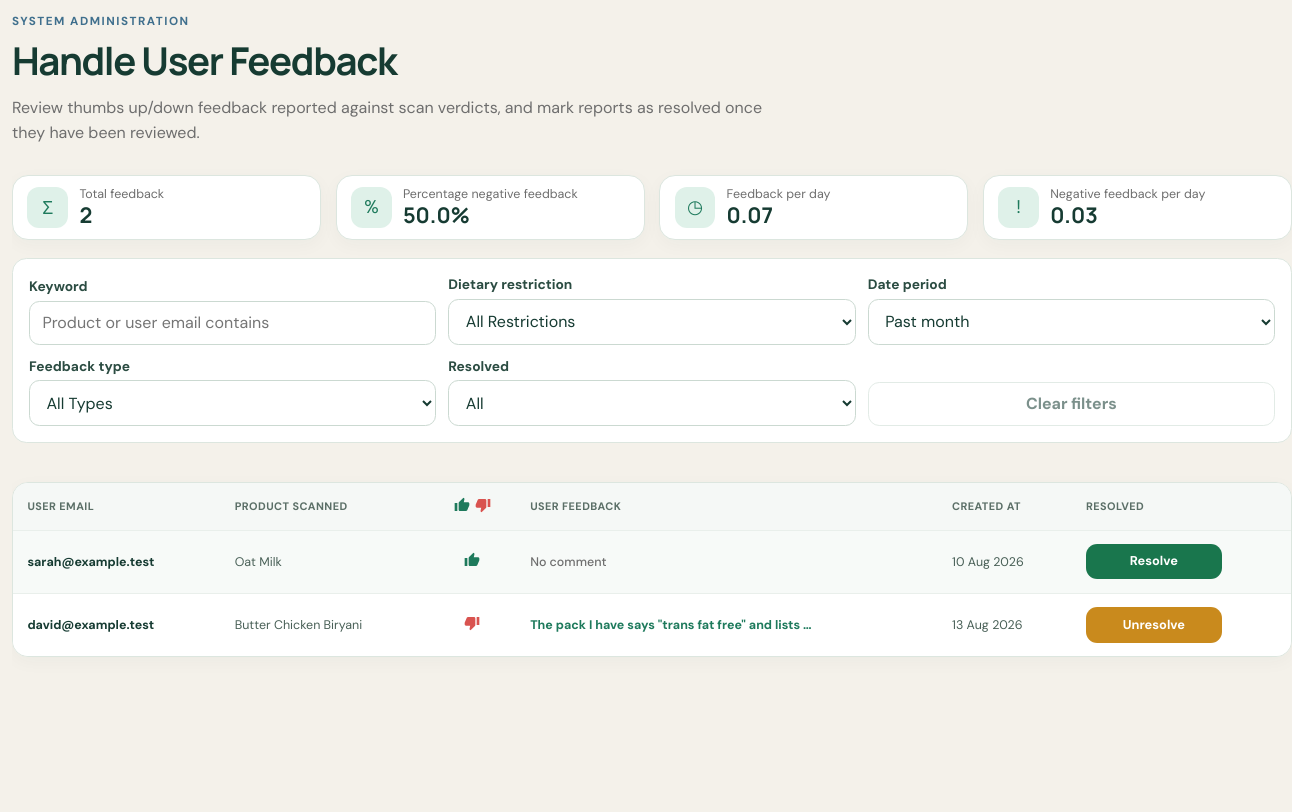
AdminScanFeedbackPage UC20 admin review › submits the new resolved status and refetches the list
Expected: the column heading "sarah@example.test" is shown, left=13, top=530, right=220, bottom=593
What coordinates should you click on to do the following:
click the button with aria-label "Mark sarah@example.test feedback as resolved"
I would click on:
 (1154, 562)
Its box is left=1086, top=544, right=1222, bottom=579.
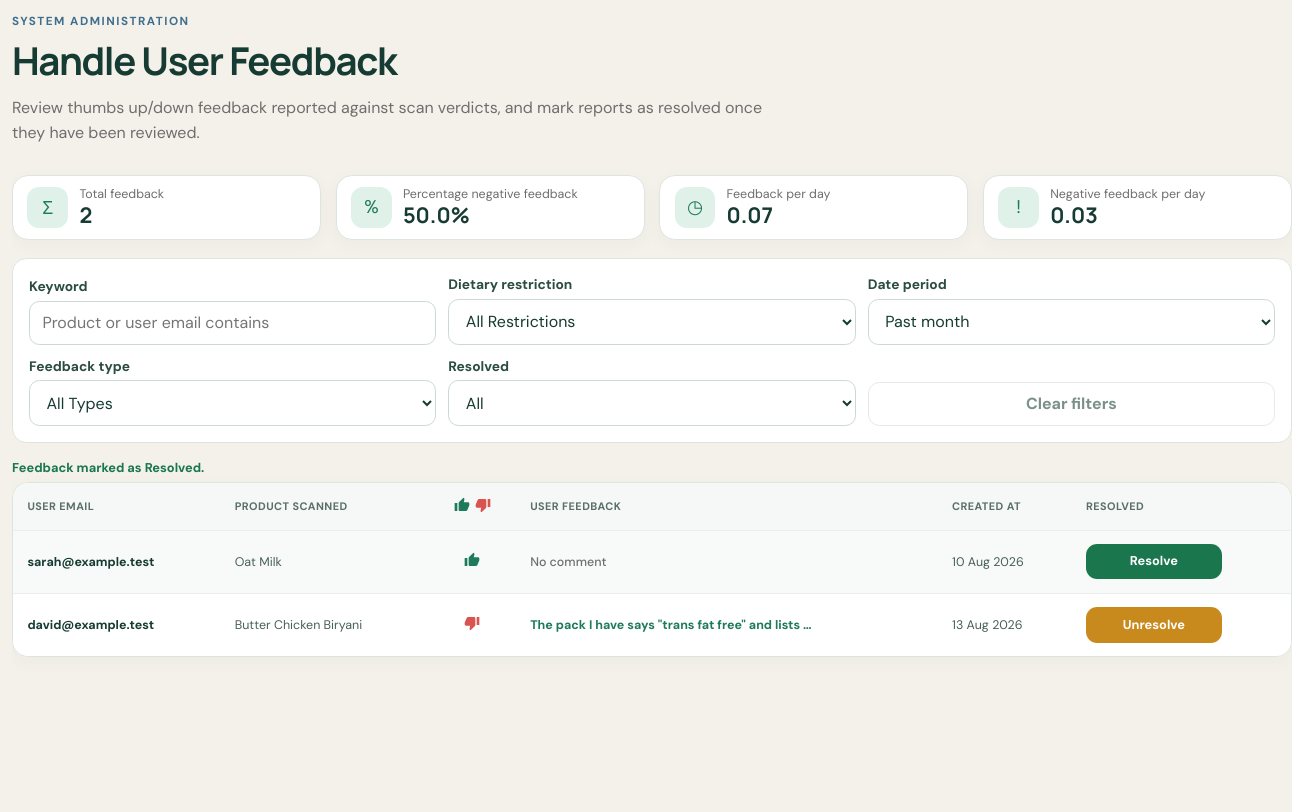
Now the text "Feedback marked as Resolved." is shown, box left=12, top=459, right=204, bottom=476
